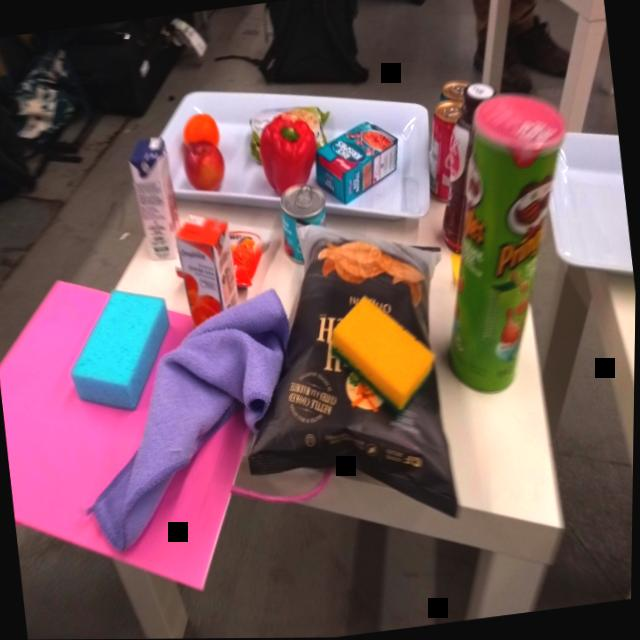apple: (181, 138, 231, 199)
cereal: (309, 115, 407, 208)
cloth_opl: (62, 282, 319, 562)
grape_juice: (122, 131, 190, 269)
paprika: (256, 110, 324, 199)
pringles: (416, 82, 601, 402)
scrubby: (326, 285, 448, 425)
sponge_opl: (59, 278, 185, 420)
